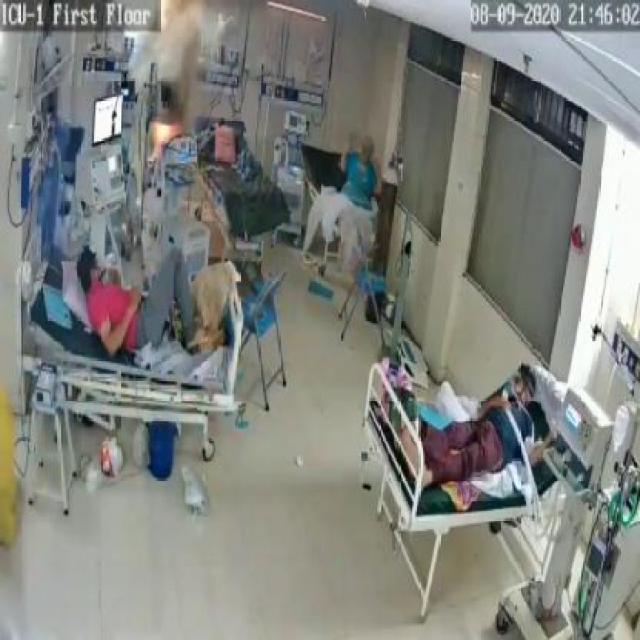fire: (146, 125, 180, 142)
smoke: (157, 12, 205, 116)
